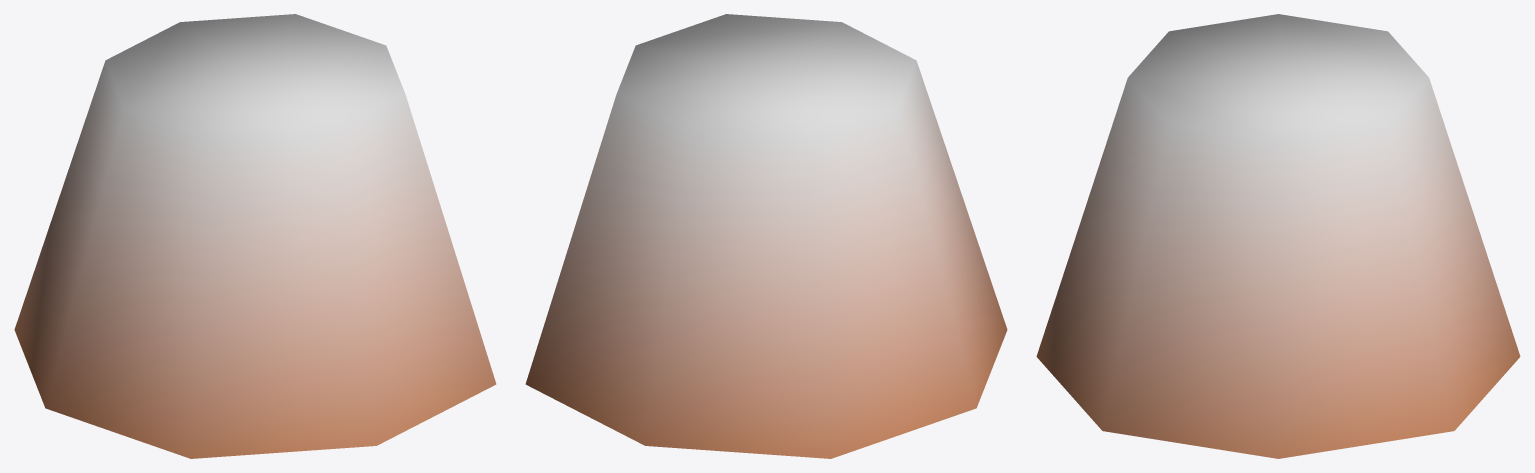
Rendered from light-shaft.glb.
The picture shows the model from 3 angles, left to right: view 1: azimuth 30°, elevation 25°; view 2: azimuth 150°, elevation 25°; view 3: azimuth 270°, elevation 25°; orthographic projection.
Parts seen in each view (by area): view 1: Cube; view 2: Cube; view 3: Cube.
Boxes of the visible parts, x1,y1,x2,y2 form: Cube: (14, 14, 496, 458); Cube: (525, 14, 1007, 458); Cube: (1036, 14, 1520, 458).
Size of the model in its own units: 4.72 by 3 by 4.72.
